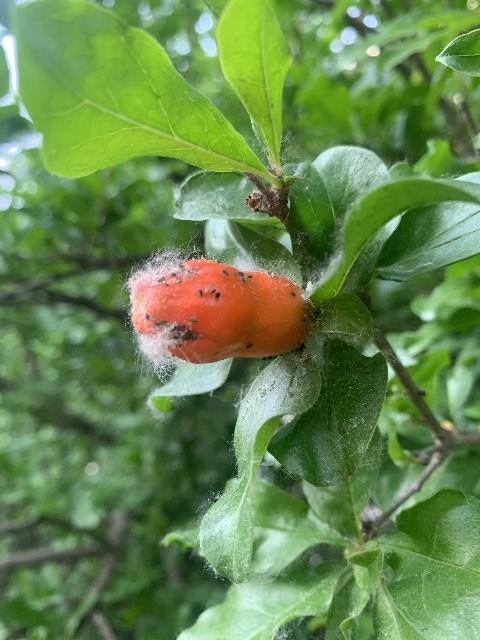bud: (129, 256, 312, 364)
